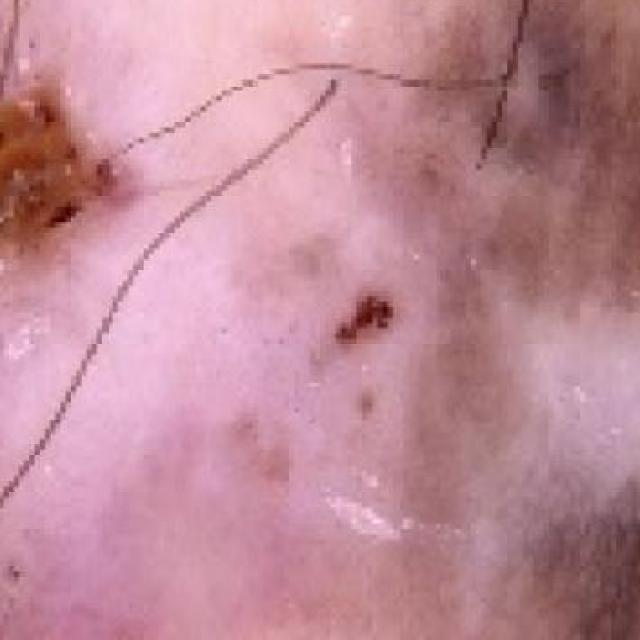DF: (0, 0, 640, 640), (0, 26, 169, 374)
